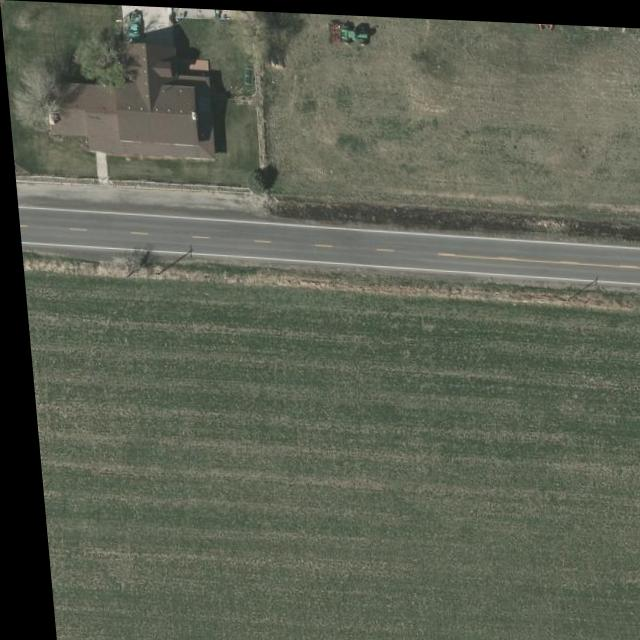vehicle: (125, 10, 142, 40)
